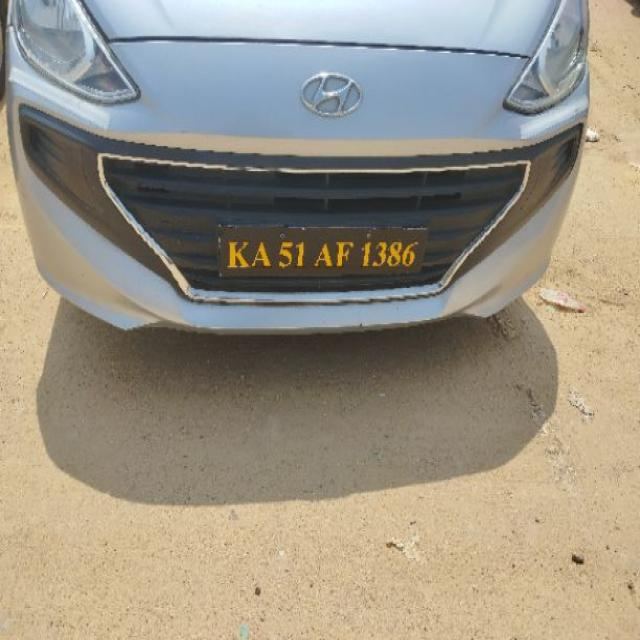license_plate: (214, 223, 428, 278)
